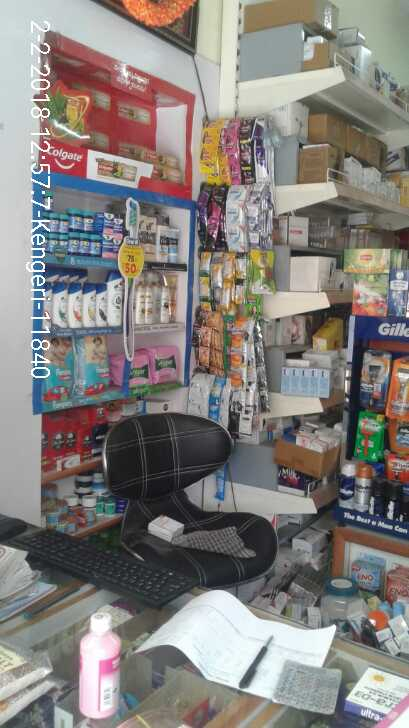beauty: (105, 268, 129, 322), (135, 210, 155, 260), (52, 277, 68, 333), (154, 221, 178, 256), (162, 272, 178, 323), (69, 279, 85, 327), (146, 281, 159, 330), (95, 280, 108, 328), (82, 283, 96, 325), (132, 279, 145, 320)
pharmacy: (33, 333, 79, 411), (72, 337, 115, 399), (148, 345, 188, 380), (113, 352, 150, 387), (43, 211, 69, 253), (66, 205, 100, 228), (103, 231, 127, 263), (69, 233, 103, 255), (97, 206, 123, 230)
